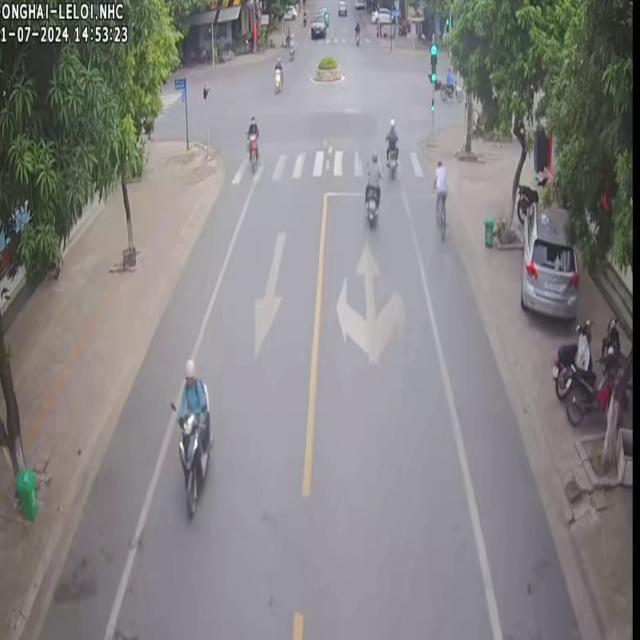car: (519, 194, 578, 318)
green_light: (427, 40, 435, 85)
motobike: (563, 316, 622, 422), (176, 359, 212, 517), (550, 318, 590, 398), (363, 149, 380, 227), (384, 116, 397, 177), (246, 114, 258, 171), (271, 54, 281, 100)
stop_line: (323, 189, 436, 196)
